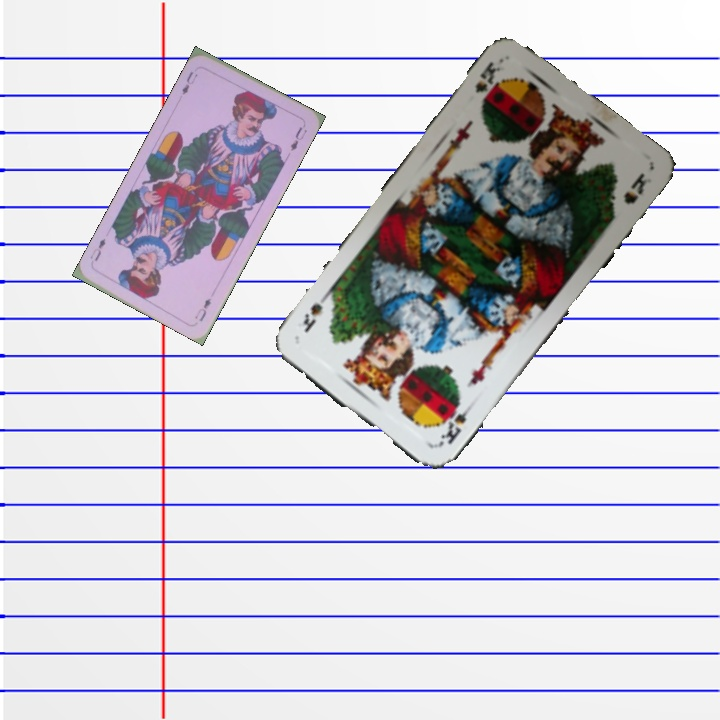EU: (191, 294, 214, 324), (178, 67, 200, 97)
SK: (434, 398, 477, 449), (471, 57, 503, 105)
